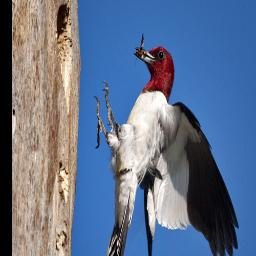Woodpecker: (95, 38, 239, 256)
